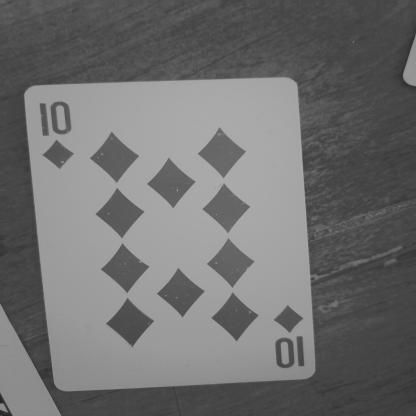10D: (31, 95, 88, 176), (266, 304, 314, 382)
